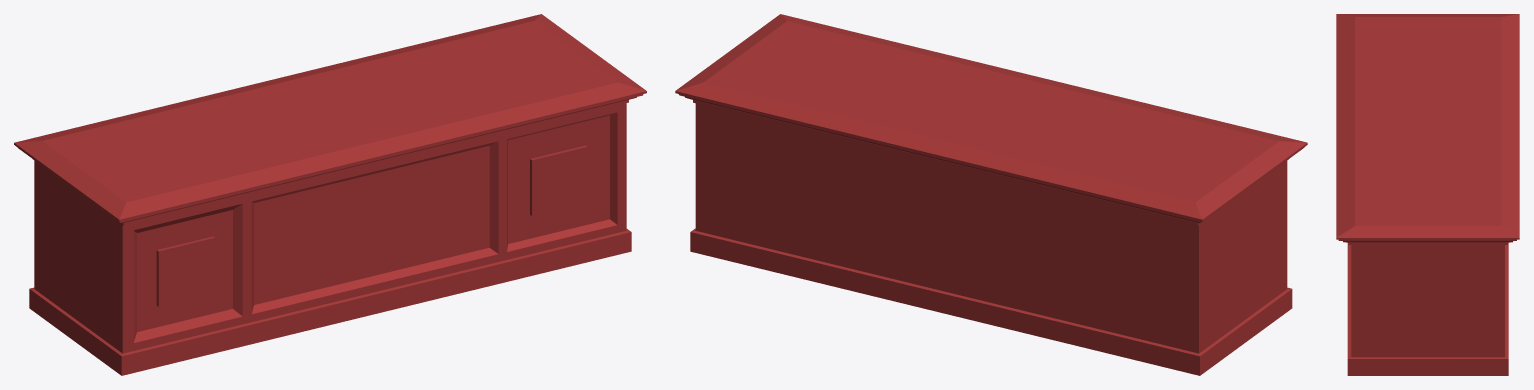
File: st2_main_01_low.fbx
3 renders of one model, left to right at view 1: azimuth 30°, elevation 25°; view 2: azimuth 150°, elevation 25°; view 3: azimuth 270°, elevation 25°, orthographic. The views are drawn at different scales.
Parts seen in each view (by area): view 1: Plane002; view 2: Plane002; view 3: Plane002.
Boxes of the visible parts, x1,y1,x2,y2 form: Plane002: (14, 14, 646, 375); Plane002: (675, 14, 1307, 375); Plane002: (1336, 14, 1519, 375).
Size of the model in its own units: 1980 by 611 by 684.
